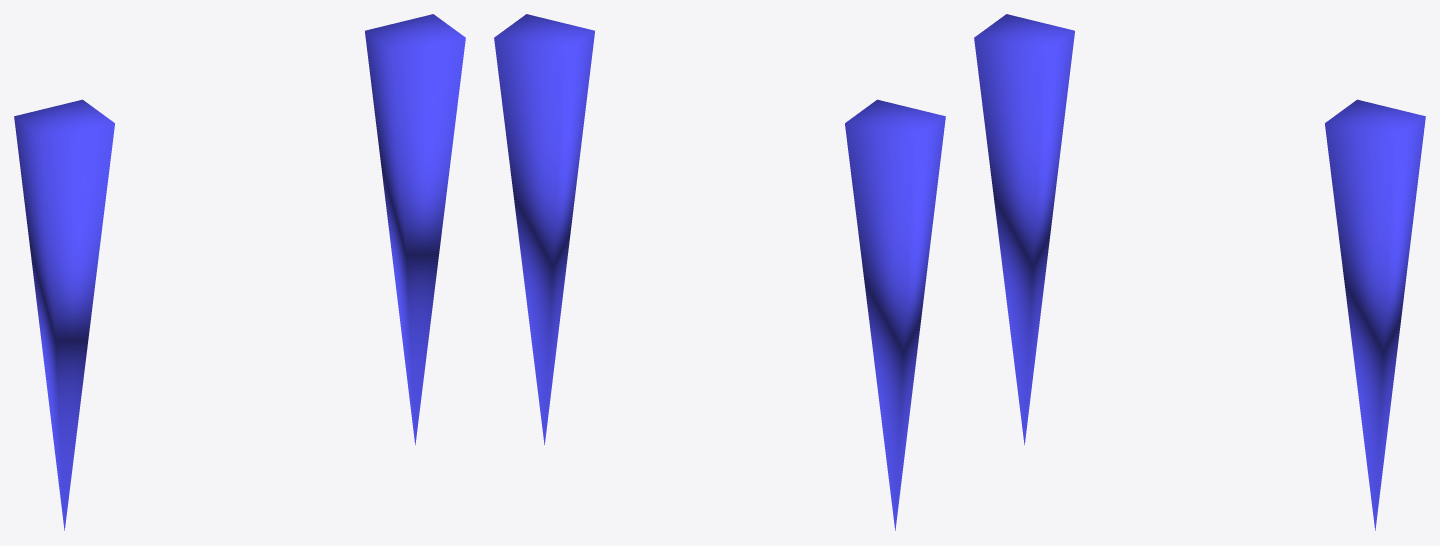
The model's file is burners.obj.
3 views of the same model, side by side, from view 1: azimuth 30°, elevation 25°; view 2: azimuth 150°, elevation 25°; view 3: azimuth 330°, elevation 25° (orthographic).
Visible parts, largest first — view 1: obj1; view 2: obj1; view 3: obj1.
Part boxes in pixels (<box>): obj1: <box>14,14,465,530</box>; obj1: <box>494,14,945,530</box>; obj1: <box>974,14,1425,530</box>.
Bounding box in the file's own units: 0.0106 × 0.01 × 0.00143.
